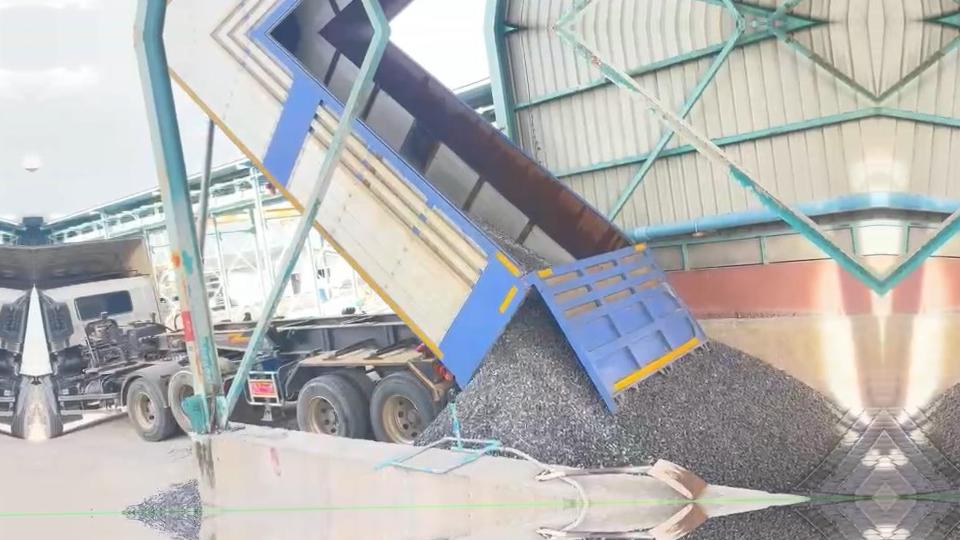gravel: (457, 294, 841, 491), (473, 216, 551, 270), (125, 480, 201, 511), (419, 409, 451, 443)
